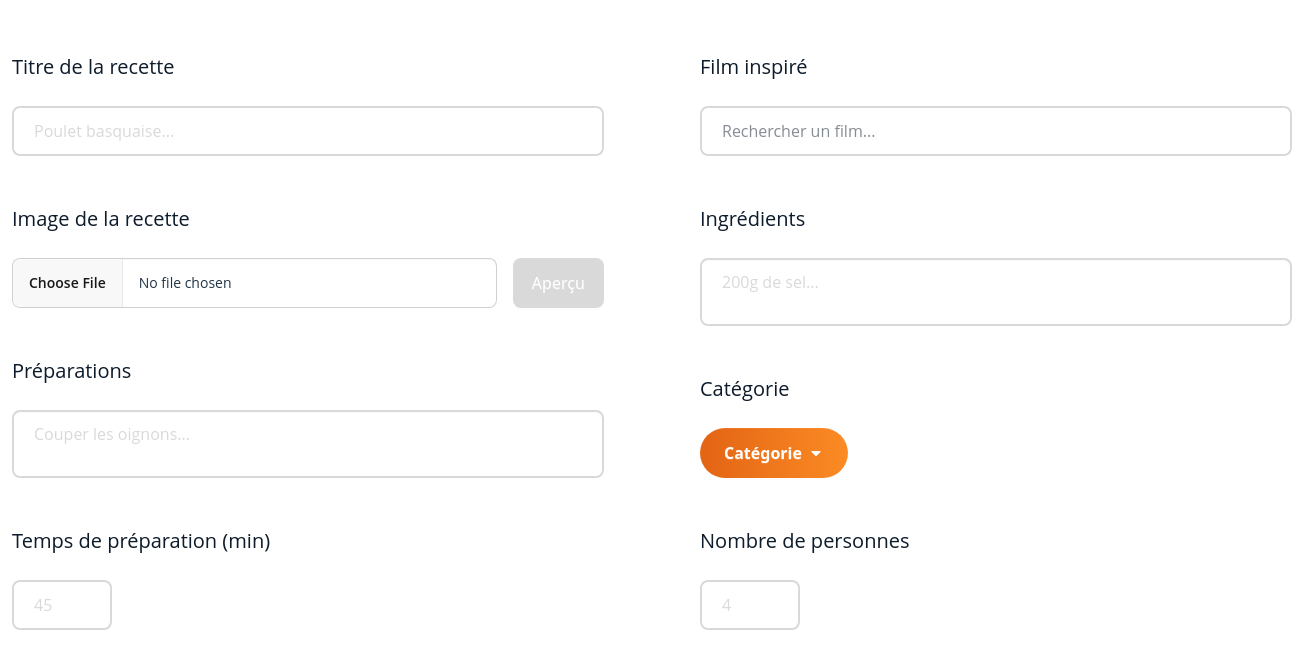
Test: Add Recipe Form › should not submit if the recipe title is empty
The image size is (1304, 665).
Clear the field labelled "Titre de la recette": x=308, y=131 [12, 106, 604, 156]
(page scrolled)
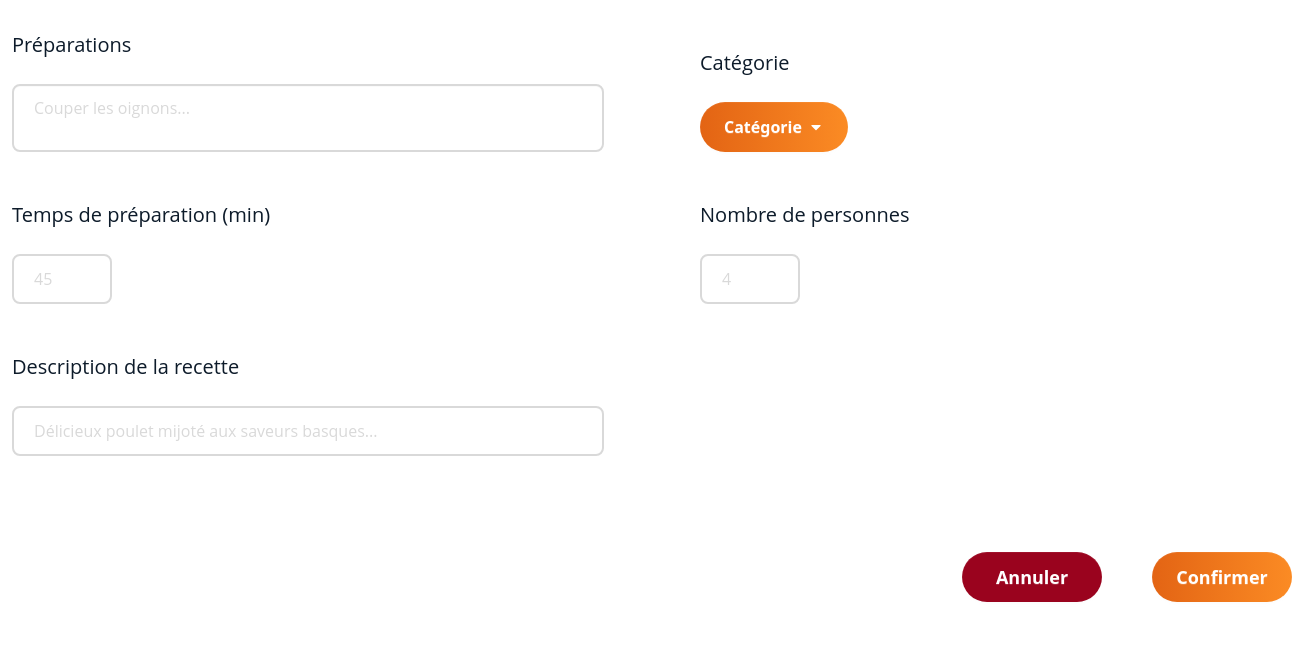
Click the button "Confirmer": x=1222, y=577 [1152, 552, 1292, 602]
(page scrolled)
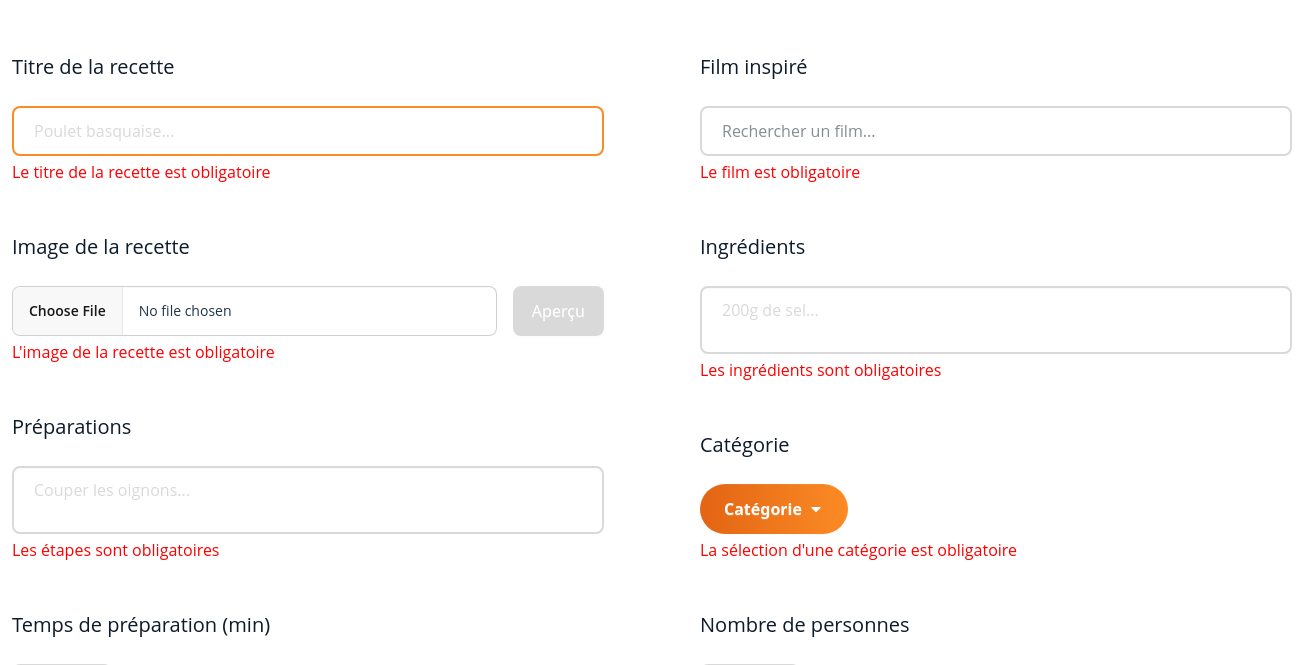
Check: the message "Le titre de la recette est obligatoire" is shown, box [12, 161, 271, 183]
